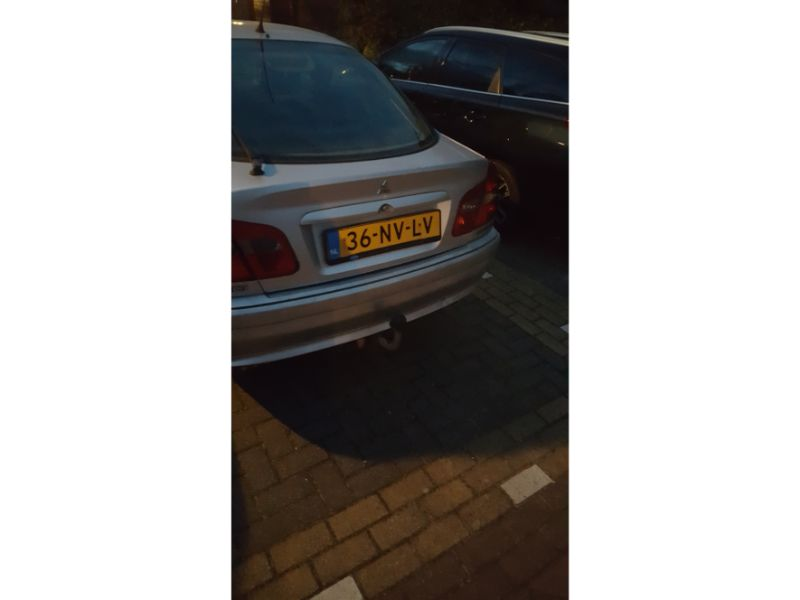kenteken: (328, 209, 440, 261)
